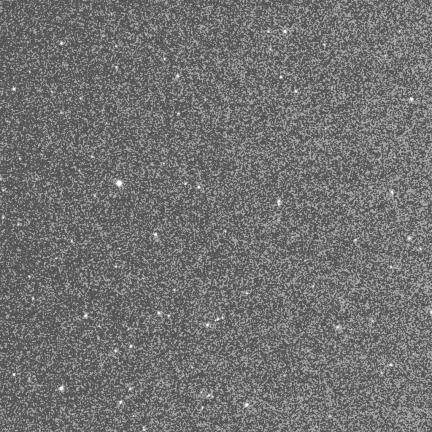blob: (117, 180, 122, 186), (389, 364, 394, 368), (157, 311, 161, 316), (176, 74, 180, 79), (60, 41, 64, 46), (84, 314, 88, 318), (115, 66, 119, 70), (12, 87, 16, 91), (60, 387, 64, 391), (354, 239, 358, 243), (91, 155, 95, 159), (129, 387, 133, 391), (336, 326, 340, 330), (119, 401, 123, 405), (280, 75, 283, 80), (177, 112, 180, 116), (420, 247, 423, 251), (198, 185, 201, 189), (173, 289, 177, 292), (224, 230, 227, 234), (184, 182, 187, 186), (13, 373, 16, 377), (32, 297, 35, 301), (168, 314, 171, 318), (391, 190, 394, 194), (245, 403, 248, 407), (295, 90, 298, 94), (284, 374, 287, 378), (390, 266, 393, 269), (410, 98, 413, 101), (115, 45, 118, 48), (154, 233, 157, 236), (246, 292, 249, 295), (408, 237, 411, 240), (164, 58, 167, 61), (206, 324, 209, 326), (115, 349, 117, 352), (278, 200, 280, 203), (130, 345, 132, 348), (284, 30, 286, 33), (430, 311, 432, 314), (268, 30, 270, 33)
